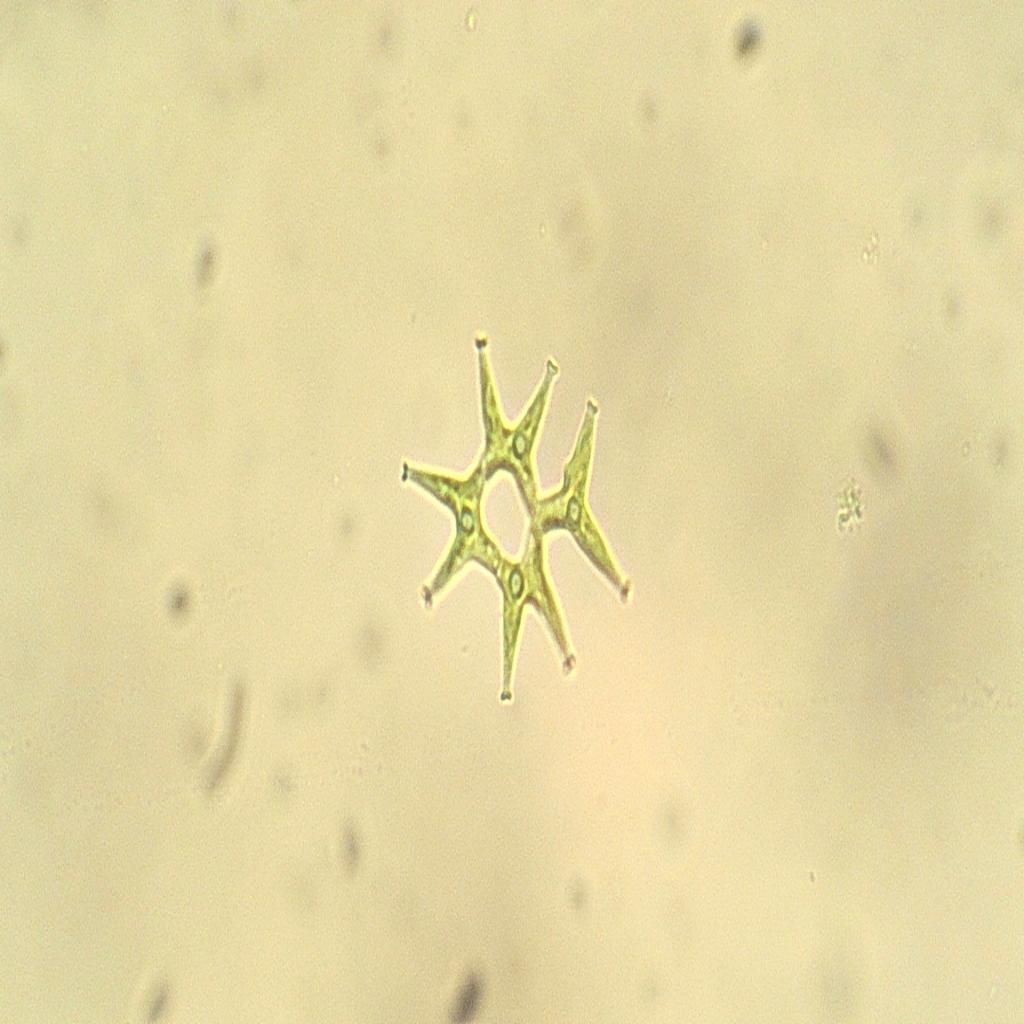Pediastrum_75FI: (395, 323, 643, 712)
